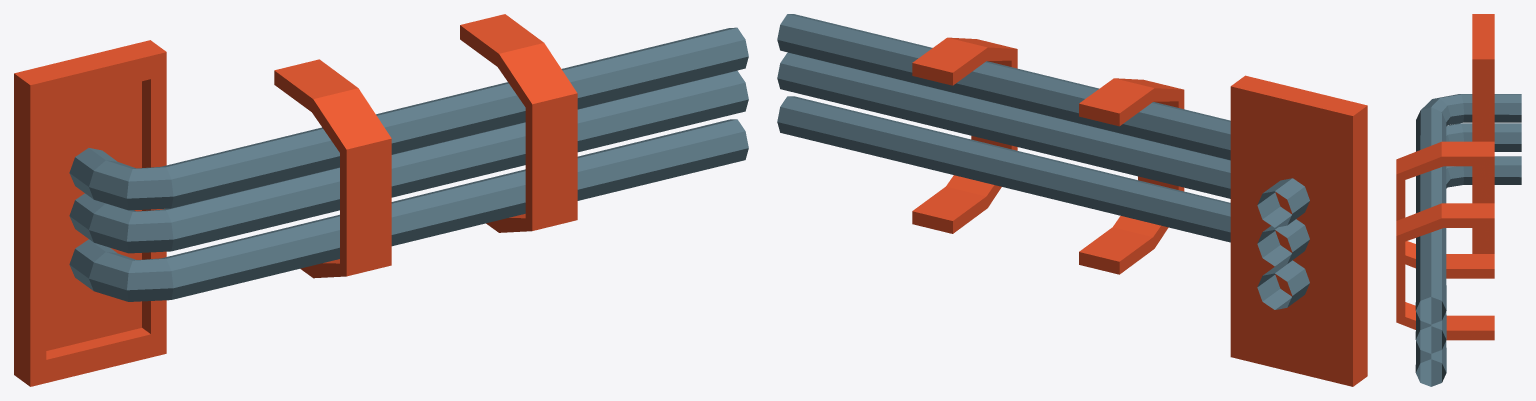
Rendered from Pipe 3.fbx.
3 renders of one model, left to right at view 1: azimuth 30°, elevation 25°; view 2: azimuth 150°, elevation 25°; view 3: azimuth 270°, elevation 25°, orthographic. The views are drawn at different scales.
Parts seen in each view (by area): view 1: Cube.112; view 2: Cube.112; view 3: Cube.112.
Boxes of the visible parts, <box> form: Cube.112: <box>14,14,748,386</box>; Cube.112: <box>777,14,1367,386</box>; Cube.112: <box>1396,14,1521,386</box>.
Size of the model in its own units: 0.7049 by 0.3002 by 0.1663.
